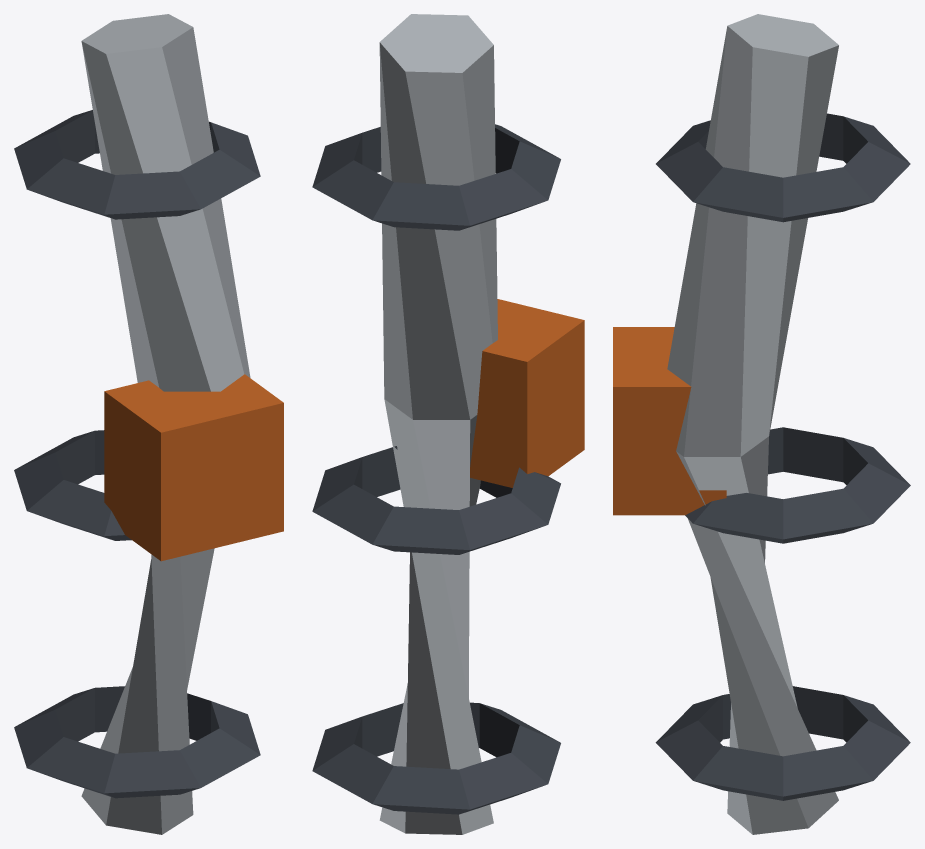
File: droid-leg-reinforcements.glb
3 views of the same model, side by side, from view 1: azimuth 30°, elevation 25°; view 2: azimuth 150°, elevation 25°; view 3: azimuth 270°, elevation 25° (orthographic).
Visible parts, largest first — view 1: m; view 2: m; view 3: m.
Part boxes in pixels (bbox=[...]): m: bbox=[14, 14, 283, 834]; m: bbox=[312, 14, 584, 834]; m: bbox=[613, 14, 910, 834].
Size of the model in its own units: 0.1 by 0.3404 by 0.1166.
